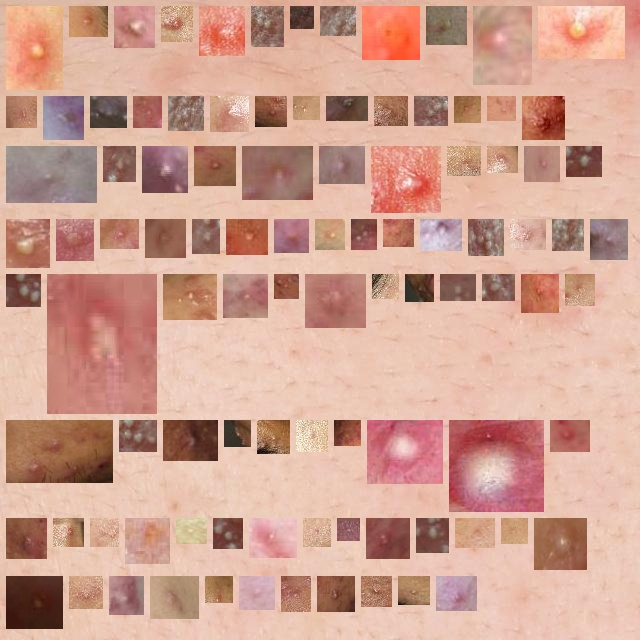pustule: (55, 282, 149, 406), (457, 428, 536, 504), (14, 428, 105, 475), (14, 154, 89, 195), (375, 428, 435, 476), (14, 14, 55, 82), (379, 154, 433, 205), (481, 14, 524, 77), (546, 14, 617, 51), (250, 154, 305, 192), (313, 282, 358, 320), (370, 14, 412, 52), (14, 584, 55, 621), (542, 526, 579, 562), (171, 282, 209, 312), (207, 14, 237, 48), (171, 428, 210, 453), (150, 154, 180, 185), (14, 227, 42, 260), (158, 584, 191, 611), (133, 526, 162, 556), (231, 282, 260, 310), (257, 526, 289, 550), (530, 104, 557, 132), (51, 104, 76, 132), (374, 526, 402, 551), (327, 154, 357, 176), (122, 14, 147, 40), (14, 526, 39, 551), (202, 154, 228, 178), (428, 219, 454, 243), (434, 14, 459, 37), (153, 227, 178, 250), (64, 227, 86, 253), (598, 227, 620, 252), (234, 227, 260, 247), (529, 282, 551, 305), (444, 584, 469, 603), (218, 104, 241, 124), (334, 96, 360, 113), (325, 584, 347, 604), (117, 584, 136, 607), (259, 14, 276, 39), (476, 227, 496, 248), (532, 154, 552, 174), (558, 428, 582, 444), (176, 104, 196, 123), (247, 584, 267, 602), (127, 428, 149, 444), (77, 14, 100, 29), (282, 227, 301, 245), (111, 154, 128, 174), (98, 104, 119, 120), (463, 526, 487, 540), (14, 282, 33, 299), (424, 526, 441, 545), (108, 227, 131, 241), (169, 14, 185, 34), (265, 428, 282, 446), (77, 584, 95, 601), (574, 154, 594, 169), (518, 227, 538, 242), (328, 14, 348, 28), (289, 584, 303, 604), (560, 227, 576, 243), (304, 428, 320, 444), (382, 104, 400, 118), (422, 104, 440, 118), (455, 154, 473, 168), (14, 104, 29, 120), (263, 104, 279, 119), (200, 227, 212, 246), (369, 584, 384, 599), (573, 282, 587, 298), (448, 282, 468, 293), (323, 227, 337, 242), (221, 526, 235, 541), (141, 104, 154, 120), (406, 584, 422, 597), (61, 526, 76, 539), (490, 282, 507, 293), (391, 227, 406, 239), (98, 526, 111, 539), (495, 154, 510, 165), (413, 282, 426, 294), (311, 526, 323, 539), (359, 227, 369, 242), (184, 526, 199, 536), (213, 584, 225, 595), (462, 104, 473, 115), (232, 428, 243, 439), (495, 104, 508, 113), (342, 428, 353, 438), (509, 526, 520, 536), (380, 282, 391, 291), (301, 104, 312, 112), (282, 282, 291, 291), (298, 14, 306, 21), (345, 526, 352, 533)
